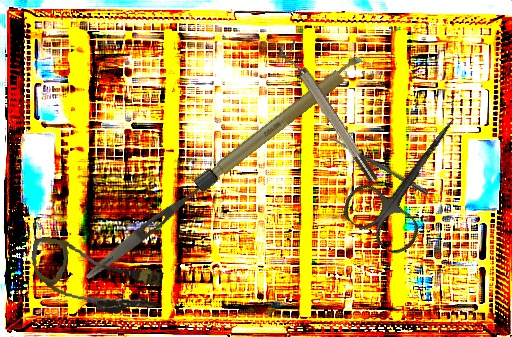Cannula: (24, 235, 167, 321)
Dressing Forceps: (82, 168, 220, 284)
Fixation Ring: (275, 38, 381, 189)
Iris Scissors: (335, 96, 488, 260)
Scalpel Handle: (193, 51, 369, 194)
Surgical Spoon: (328, 134, 429, 195)
